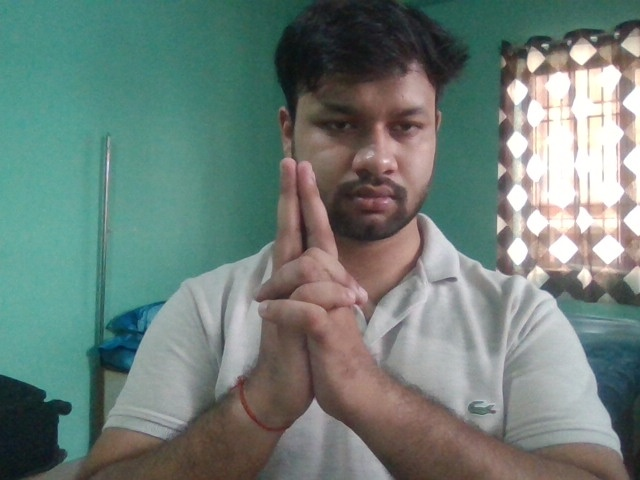1000 Years of Death: (242, 154, 380, 440)
